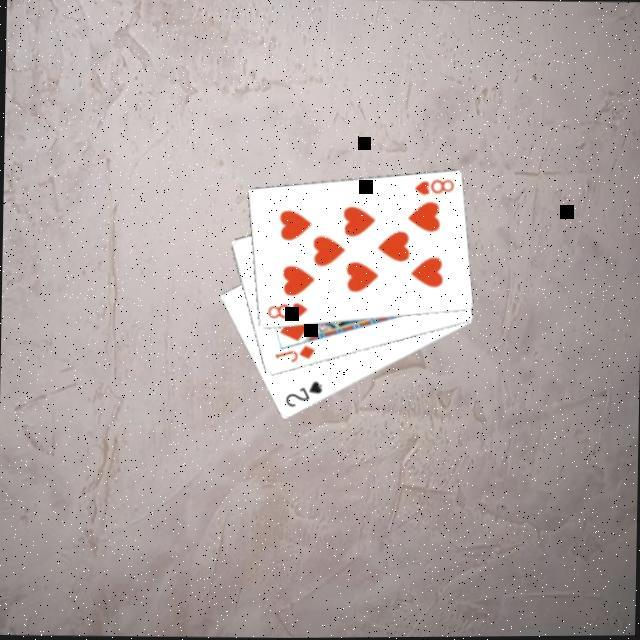2S: (280, 375, 322, 408)
8H: (408, 174, 454, 198), (262, 298, 308, 320)
JD: (270, 339, 316, 364)
